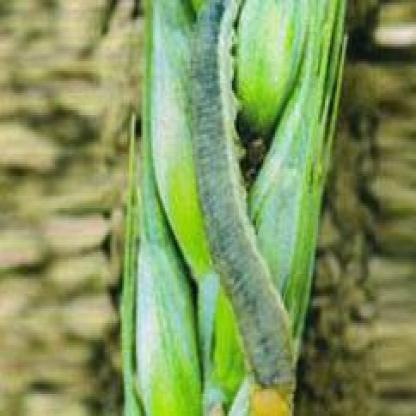sawfly: (185, 1, 301, 404)
